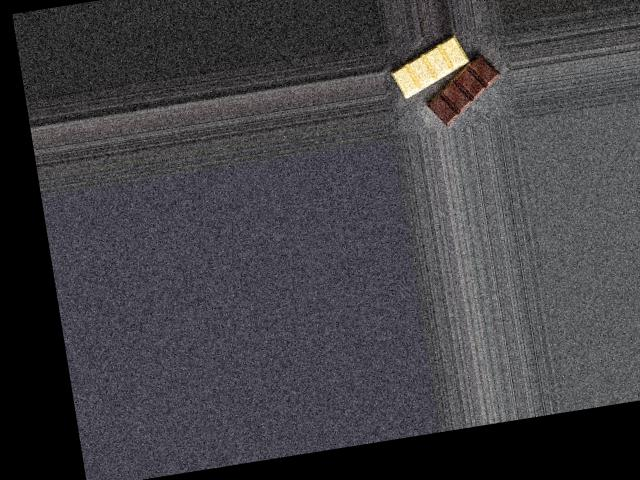chocolate: (382, 30, 506, 131)
